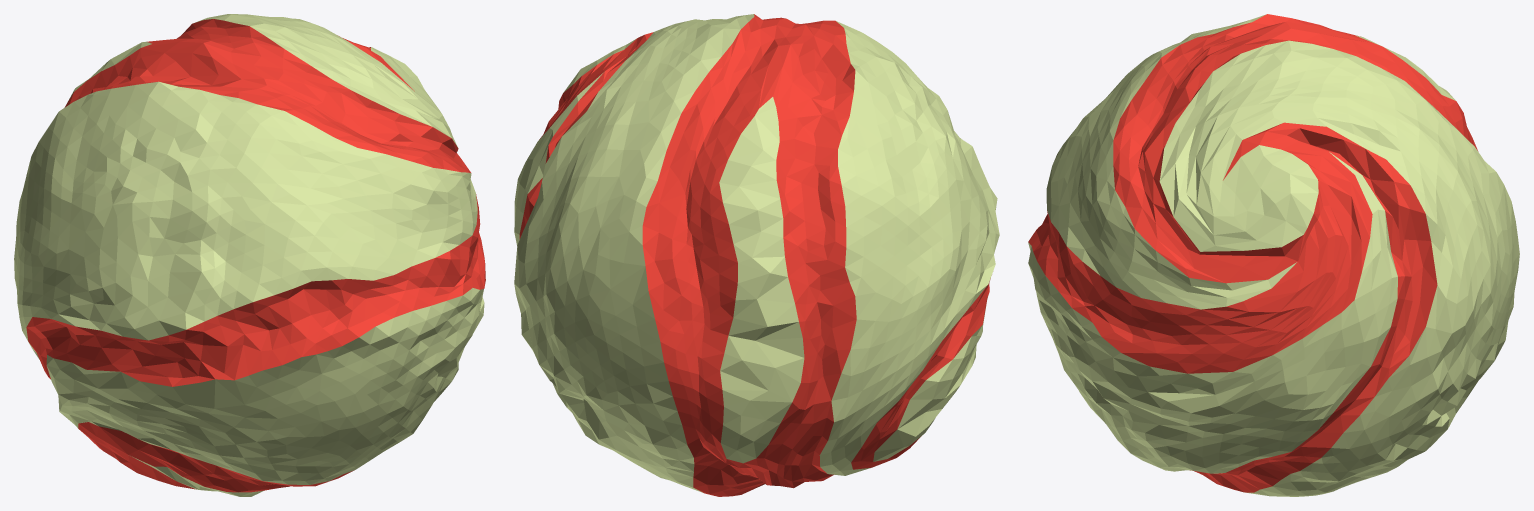
The model's file is Planet_20.glb.
The picture shows the model from 3 angles, left to right: view 1: azimuth 30°, elevation 25°; view 2: azimuth 150°, elevation 25°; view 3: azimuth 270°, elevation 25°; orthographic projection. The views are drawn at different scales.
Visible parts, largest first — view 1: Planet_20; view 2: Planet_20; view 3: Planet_20.
Boxes of the visible parts, box(x1,y1,x2,y2) form: Planet_20: box(14, 14, 485, 496); Planet_20: box(514, 14, 999, 496); Planet_20: box(1028, 14, 1519, 496).
Bounding box in the file's own units: 19.86 × 20.51 × 20.67.
Materials: 1 (1 with a texture image).
